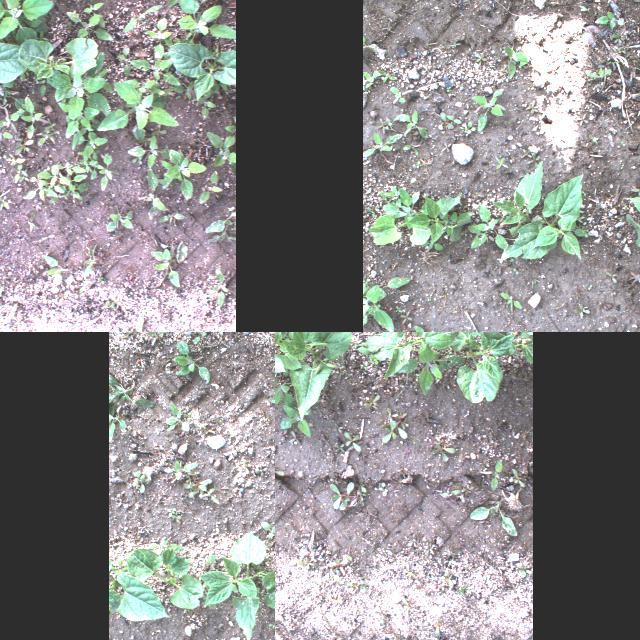crop: (194, 531, 266, 640), (500, 173, 584, 263), (279, 332, 354, 421), (450, 332, 532, 402), (353, 332, 463, 379), (125, 548, 202, 608), (108, 558, 172, 620), (169, 42, 235, 102), (492, 160, 542, 238), (18, 37, 98, 83), (408, 195, 460, 241), (0, 32, 35, 93), (367, 214, 429, 246), (624, 181, 640, 246), (275, 332, 301, 369), (262, 545, 275, 608)
weed: (96, 80, 178, 142), (46, 51, 110, 120), (399, 344, 465, 396), (177, 0, 234, 54), (0, 0, 53, 52), (362, 276, 410, 332), (129, 133, 175, 187), (158, 150, 206, 200), (108, 373, 154, 423), (468, 200, 508, 250), (469, 502, 518, 538), (381, 186, 419, 228), (173, 342, 209, 384), (66, 105, 100, 149), (471, 88, 505, 130), (130, 57, 180, 85), (0, 69, 30, 113), (66, 12, 112, 40), (391, 202, 437, 230), (377, 404, 409, 444), (206, 131, 236, 173), (279, 402, 311, 438), (205, 206, 235, 244), (329, 480, 367, 510), (122, 4, 162, 32), (151, 248, 179, 286), (146, 18, 170, 62), (20, 95, 42, 139), (48, 182, 92, 204), (441, 211, 472, 241), (363, 132, 401, 156), (396, 110, 428, 138), (75, 135, 109, 161), (504, 46, 528, 80), (42, 253, 68, 284), (122, 78, 170, 94), (200, 169, 222, 203), (99, 152, 119, 188), (164, 401, 188, 431), (108, 404, 125, 442), (164, 460, 196, 480), (432, 435, 456, 461), (159, 240, 187, 262), (106, 210, 134, 230), (23, 184, 58, 200), (594, 11, 624, 29), (558, 222, 588, 240), (213, 268, 227, 306), (378, 184, 400, 208), (275, 374, 292, 405), (490, 456, 504, 492), (196, 95, 216, 119), (204, 77, 228, 97), (362, 285, 386, 305), (145, 540, 185, 552), (342, 428, 362, 452), (418, 234, 444, 252), (82, 248, 98, 276), (53, 162, 85, 176), (513, 49, 541, 65), (500, 291, 522, 311), (89, 149, 103, 179), (116, 45, 130, 75), (146, 190, 164, 213), (38, 126, 58, 146), (198, 484, 218, 504), (39, 176, 63, 192), (362, 284, 378, 308), (588, 67, 612, 83), (121, 315, 143, 332), (224, 118, 236, 148), (362, 304, 380, 324), (363, 68, 381, 88), (317, 558, 337, 576), (170, 83, 192, 99), (132, 470, 148, 492), (36, 165, 62, 178), (510, 464, 524, 488), (438, 488, 462, 502), (260, 521, 275, 543), (362, 33, 380, 51), (382, 113, 400, 131), (267, 388, 275, 427), (363, 392, 382, 408), (58, 174, 88, 184), (0, 111, 18, 127), (572, 304, 590, 320), (514, 562, 532, 578), (13, 140, 33, 154), (76, 151, 90, 171), (376, 68, 396, 82), (442, 566, 456, 586), (187, 332, 212, 343), (158, 212, 185, 222), (440, 111, 454, 129), (27, 208, 38, 230), (288, 429, 302, 446), (390, 86, 404, 102), (372, 116, 386, 132), (82, 2, 104, 12), (398, 309, 412, 323), (568, 216, 584, 228), (332, 441, 346, 454), (444, 113, 462, 123), (379, 24, 396, 34), (404, 130, 418, 142), (462, 120, 474, 134), (494, 156, 508, 168), (576, 112, 588, 126), (527, 98, 537, 114), (401, 144, 417, 154), (530, 151, 540, 167), (610, 31, 622, 44), (0, 193, 9, 210), (412, 326, 437, 332), (6, 156, 24, 164), (44, 118, 56, 130), (605, 270, 617, 282), (102, 300, 116, 310), (275, 466, 286, 478), (8, 304, 16, 320), (15, 162, 22, 180), (473, 51, 487, 60), (0, 129, 12, 139), (520, 148, 532, 158), (630, 184, 640, 195), (588, 134, 598, 144), (124, 273, 132, 285), (366, 206, 374, 217), (20, 170, 28, 180), (578, 302, 588, 310), (570, 290, 580, 298), (444, 85, 454, 93), (441, 142, 451, 150), (379, 191, 387, 201), (577, 4, 589, 10), (531, 278, 539, 286), (586, 282, 594, 290), (414, 160, 422, 168), (458, 125, 466, 133), (454, 0, 461, 8), (578, 224, 584, 233), (98, 276, 104, 284), (636, 320, 640, 332), (618, 47, 626, 53), (448, 42, 460, 46), (498, 45, 506, 51), (580, 188, 586, 196), (0, 285, 4, 295), (425, 295, 431, 301), (513, 268, 519, 274), (620, 140, 626, 146), (507, 258, 513, 264), (396, 304, 400, 312), (620, 162, 624, 170), (492, 264, 496, 270), (636, 66, 640, 69)
